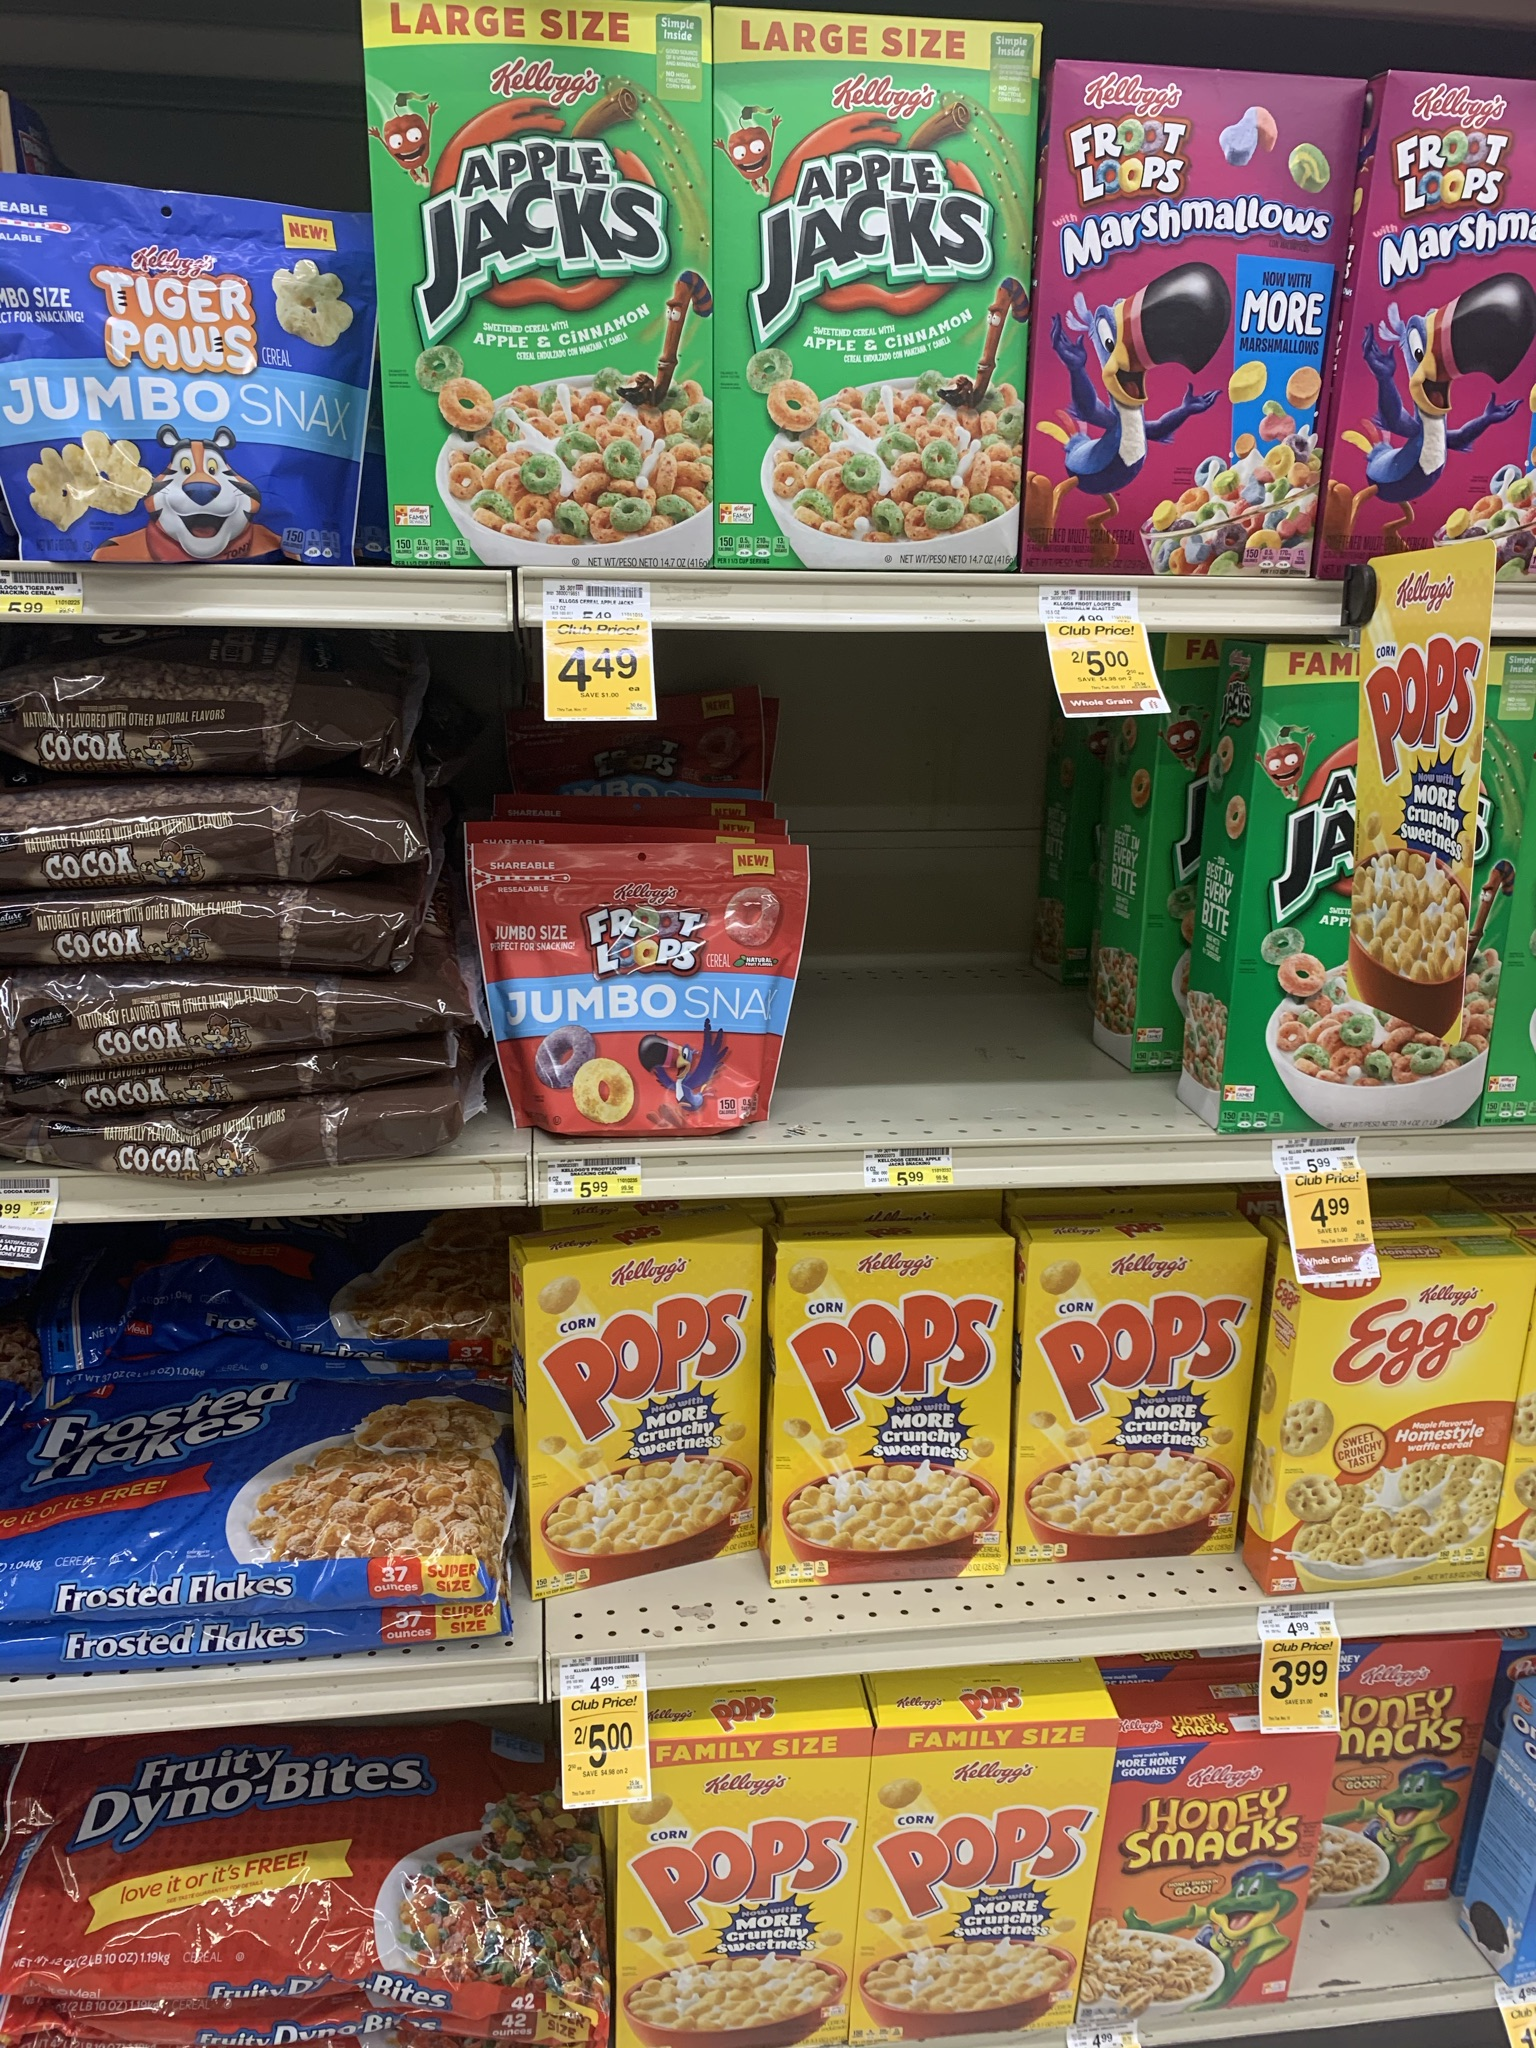cereal: (363, 2, 708, 561), (710, 2, 1013, 572), (1033, 56, 1317, 581), (1252, 640, 1499, 1119), (1368, 55, 1536, 598), (763, 1238, 1008, 1584), (523, 1250, 745, 1585), (618, 1738, 852, 2048), (1021, 1242, 1249, 1550), (1299, 1266, 1501, 1592), (876, 1727, 1071, 2048), (1100, 1738, 1305, 2016), (1300, 1651, 1483, 1919)
